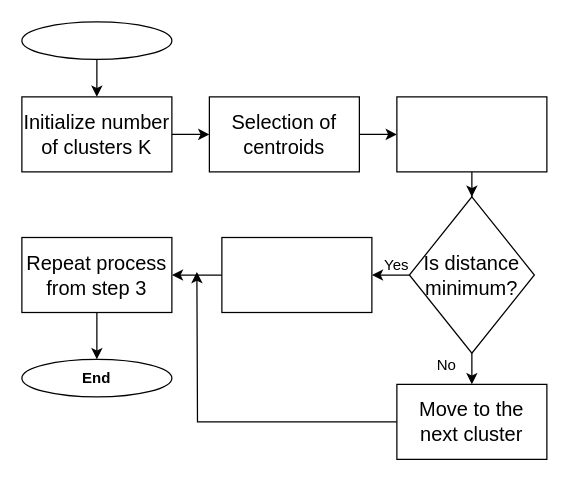
The diagram is 569 pixels wide and 481 high, and some of its shapes have lost their labels. Each missing label, with the centre of its shape:
"Distance Calculation" belongs at point (471, 134).
"Move to the same cluster" belongs at point (296, 274).
"Start" belongs at point (96, 40).
